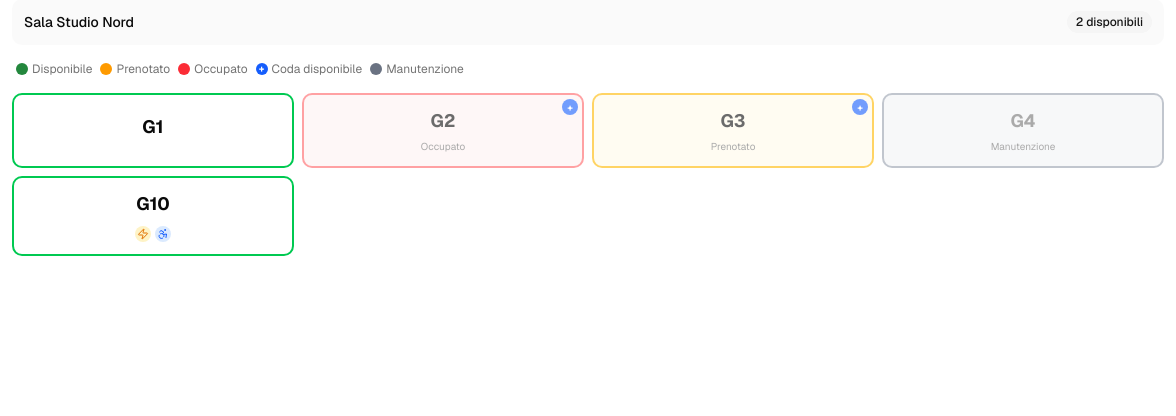
MobilePostiGrid › [TC-UI-GRID-006] l'ingresso in coda invia il posto e la fascia scelti e mostra la posizione ottenuta
Click the button with aria-label "G3 - Prenotato" at (733, 130), box [592,93,874,168]
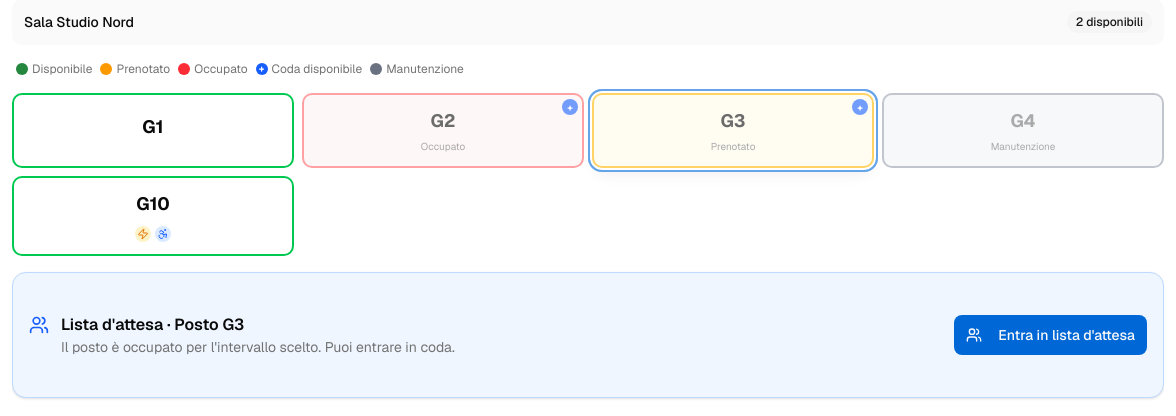
Click the button "Entra in lista d'attesa" at (1051, 335), box [954,315,1147,355]
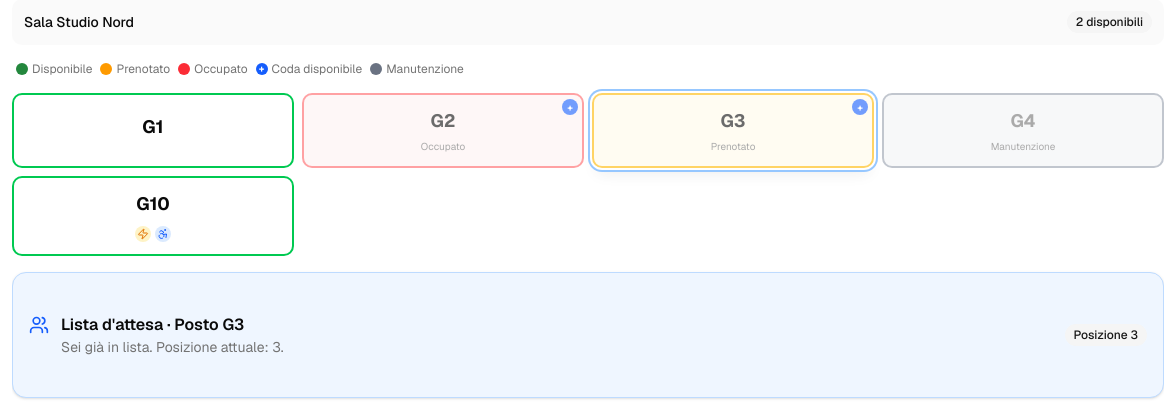
Expected: the text named "Posizione in coda 3" is shown, [1065,324,1147,346]
